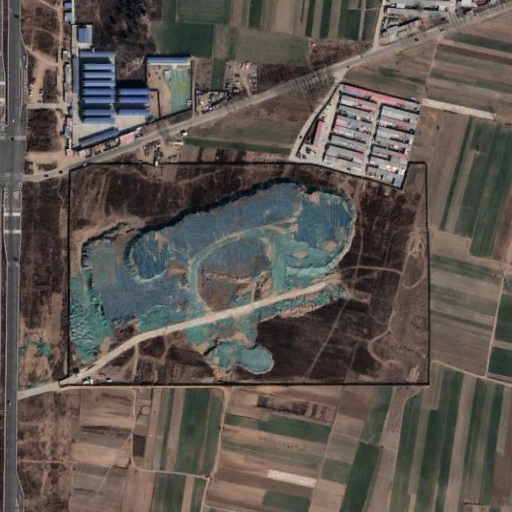cw: (69, 184, 356, 376), (161, 65, 193, 110)
